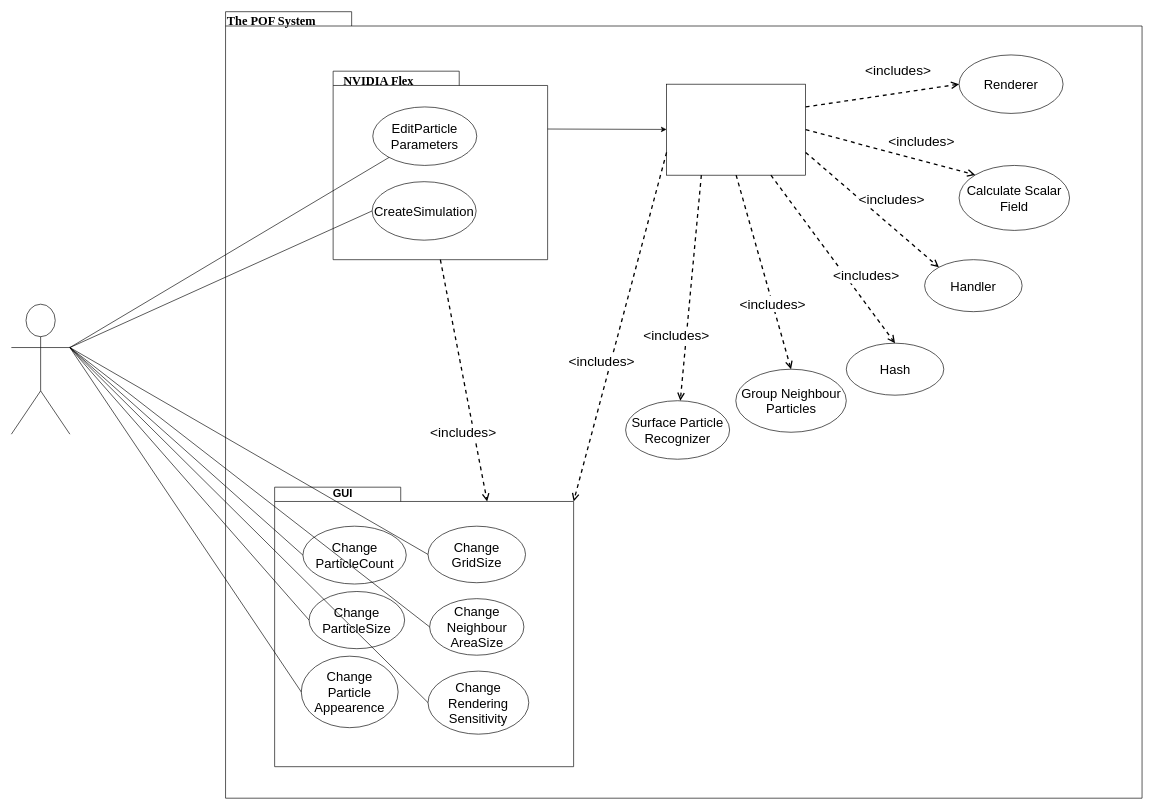
Some shapes in this 1154 by 809 pixel diagram are drawn without their labels. Each missing label, with the box of its shape:
Particle Surface Reconstructor: (666, 84, 806, 175)
User: (11, 304, 70, 434)
